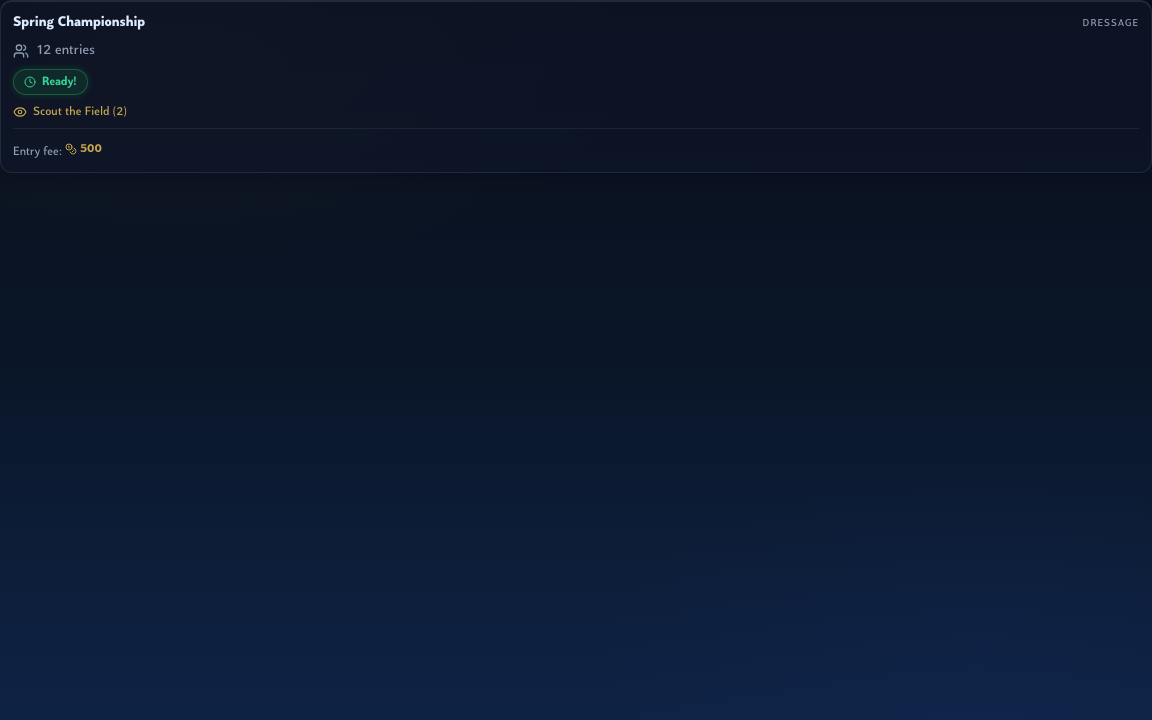
CompetitionFieldPreview › compact variant › compact variant still exposes accessible scouted list with stat labels
Click the button "Scout the Field (2)": (70, 112) [13, 104, 127, 120]
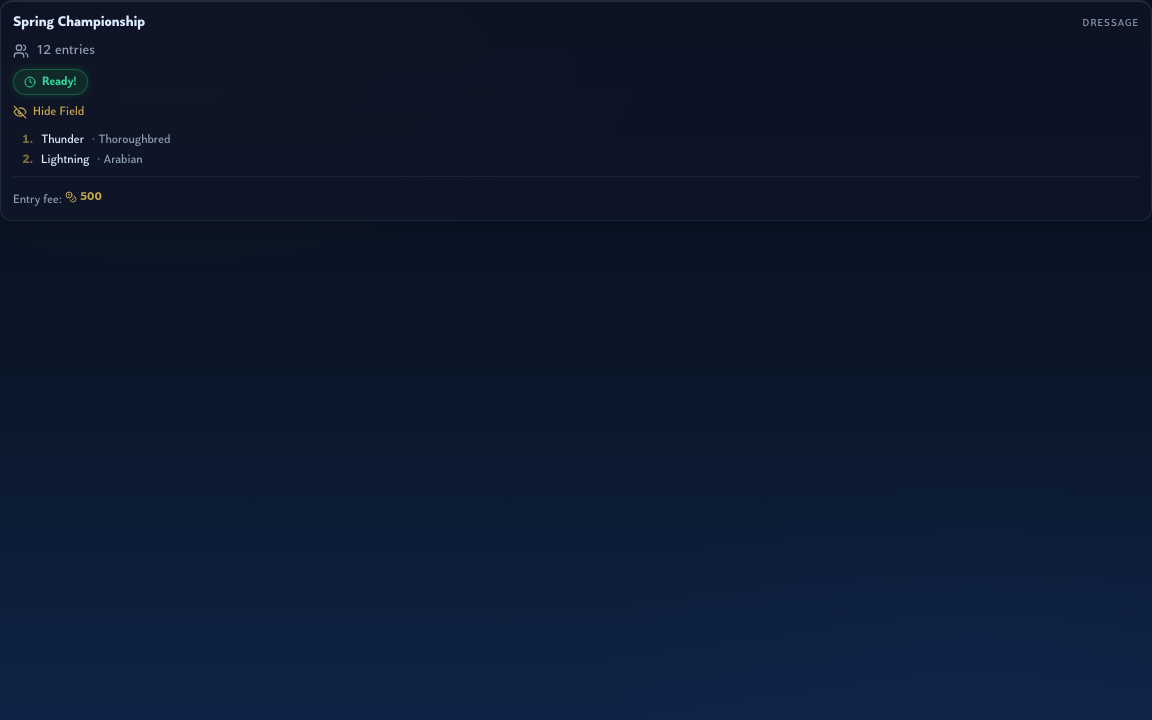
expect the list named "entered horses" is shown: met, box [22, 134, 170, 166]
